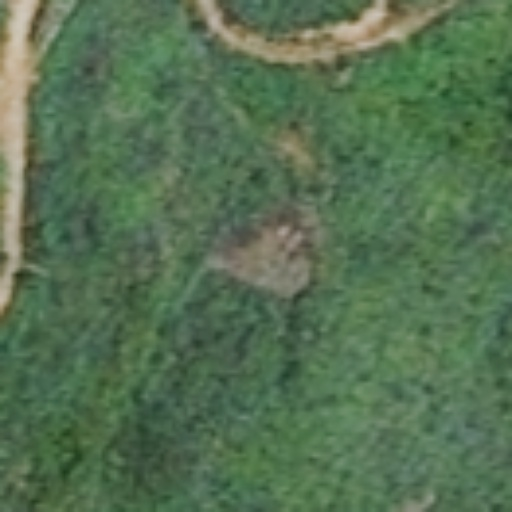landslide: (197, 212, 311, 300)
